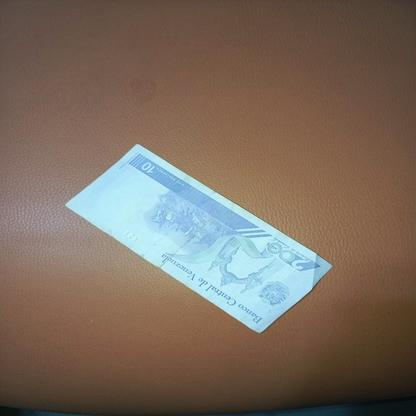ten-back-vef: (62, 144, 334, 336)
